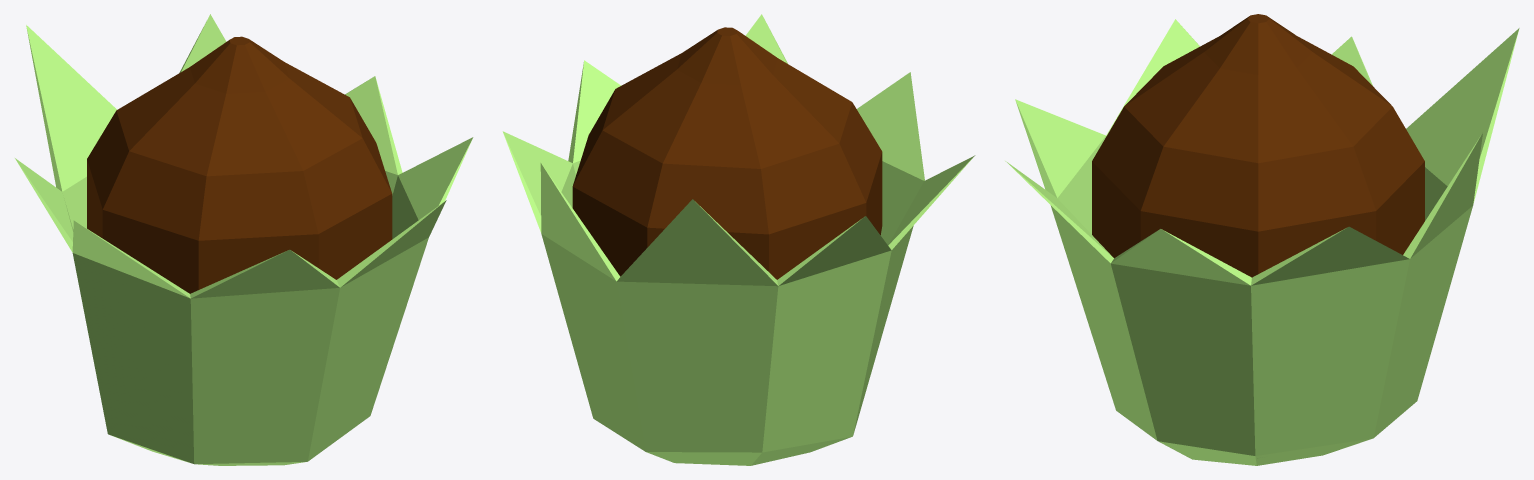
Rendered from hazelnut01.gltf.
The picture shows the model from 3 angles, left to right: view 1: azimuth 30°, elevation 25°; view 2: azimuth 150°, elevation 25°; view 3: azimuth 270°, elevation 25°; orthographic projection. The views are drawn at different scales.
Visible parts, largest first — view 1: Cylinder; view 2: Cylinder; view 3: Cylinder.
Part boxes in pixels (left/top/right/bottom): Cylinder: left=15, top=14, right=473, bottom=465; Cylinder: left=502, top=14, right=975, bottom=465; Cylinder: left=1005, top=14, right=1519, bottom=465.
Size of the model in its own units: 0.0267 by 0.027 by 0.0288.
1 material, 1 textured.
